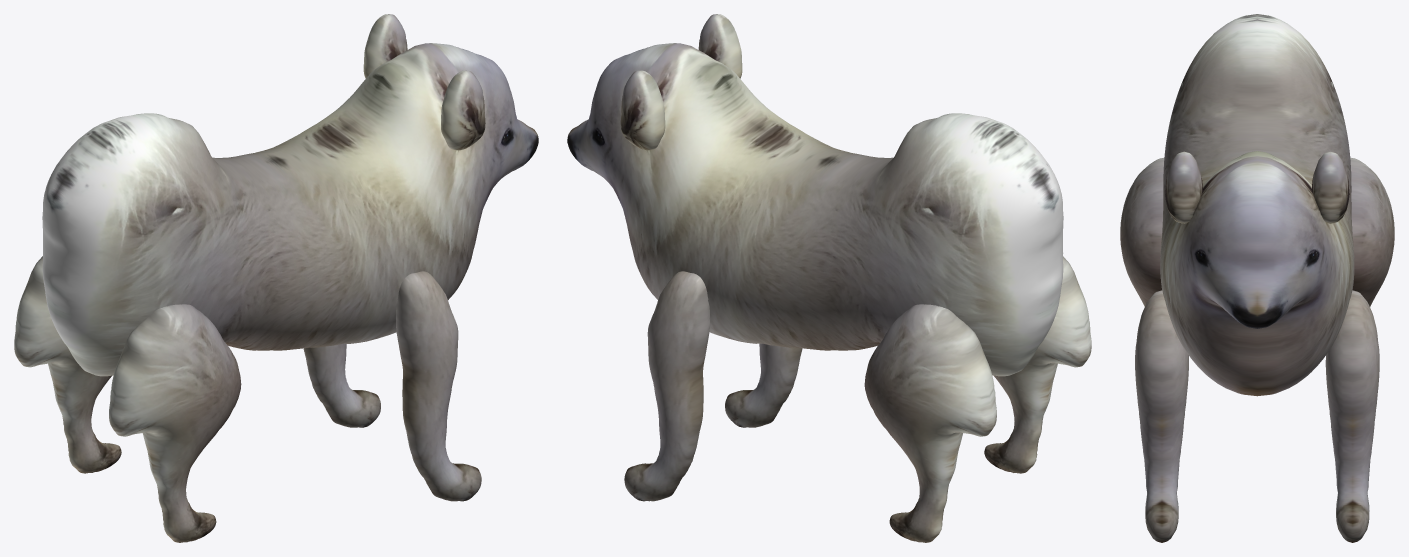
The model's file is tindra.glb.
3 views of the same model, side by side, from view 1: azimuth 30°, elevation 25°; view 2: azimuth 150°, elevation 25°; view 3: azimuth 270°, elevation 25° (orthographic). The views are drawn at different scales.
Bounding box in the file's own units: 7.8 × 6.41 × 4.03.
Materials: 1 (1 with a texture image).
